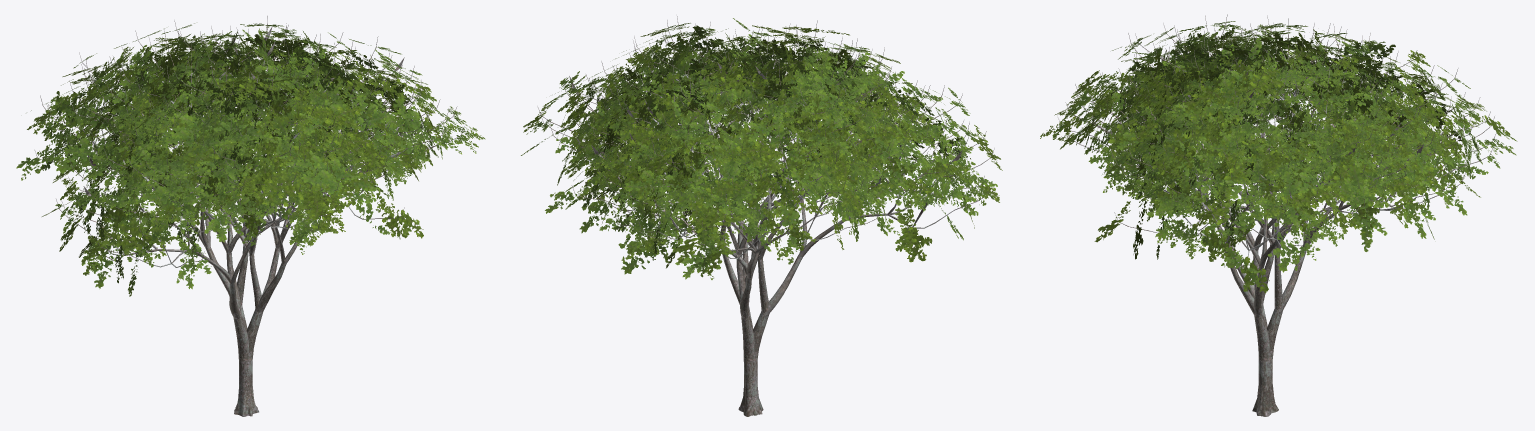
The picture shows the model from 3 angles, left to right: view 1: azimuth 30°, elevation 25°; view 2: azimuth 150°, elevation 25°; view 3: azimuth 270°, elevation 25°; orthographic projection.
Visible parts, largest first — view 1: Acacia_Dry_Green__Mature__Trunk_Mesh_0; view 2: Acacia_Dry_Green__Mature__Trunk_Mesh_0; view 3: Acacia_Dry_Green__Mature__Trunk_Mesh_0.
Boxes of the visible parts, x1,y1,x2,y2 form: Acacia_Dry_Green__Mature__Trunk_Mesh_0: [16, 16, 485, 416]; Acacia_Dry_Green__Mature__Trunk_Mesh_0: [521, 16, 1002, 416]; Acacia_Dry_Green__Mature__Trunk_Mesh_0: [1040, 14, 1517, 416].
Bounding box in the file's own units: 6.54 × 5.22 × 6.39.
